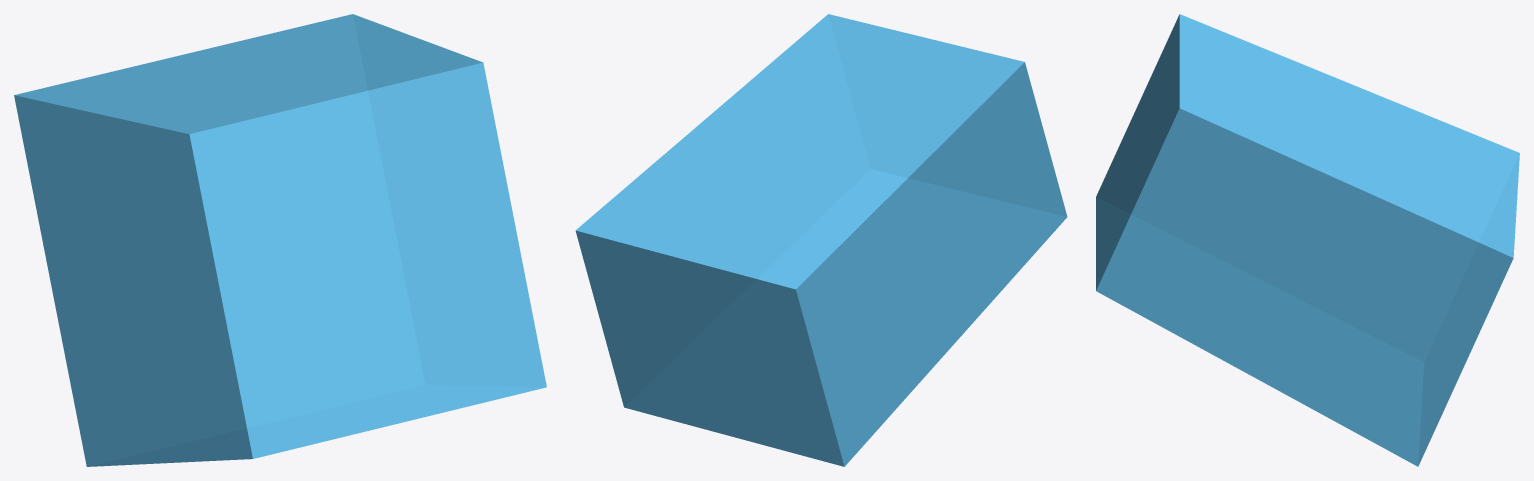
File: Event_420107950_HBrechit_15.fbx
3 renders of one model, left to right at view 1: azimuth 30°, elevation 25°; view 2: azimuth 150°, elevation 25°; view 3: azimuth 270°, elevation 25°, orthographic. The views are drawn at different scales.
Parts seen in each view (by area): view 1: Model; view 2: Model; view 3: Model.
Boxes of the visible parts, x1,y1,x2,y2 form: Model: (14, 14, 546, 466); Model: (575, 14, 1067, 466); Model: (1096, 14, 1519, 466).
Size of the model in its own units: 0.5828 by 0.6526 by 0.7796.
